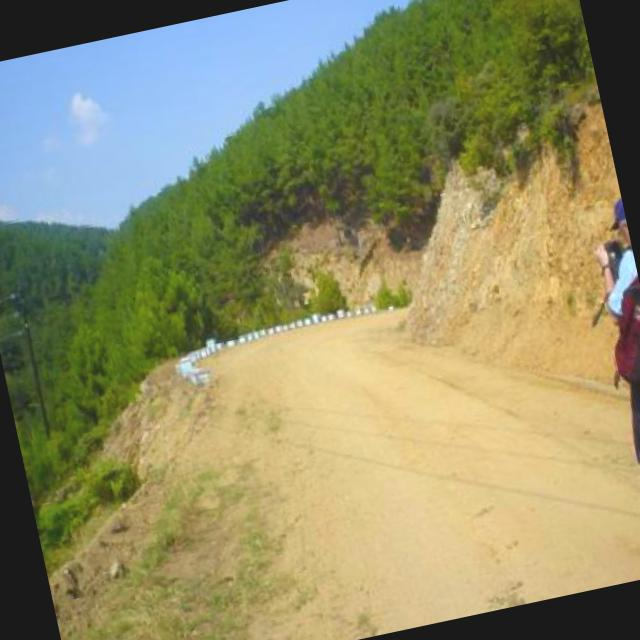Person: (577, 203, 640, 527)
